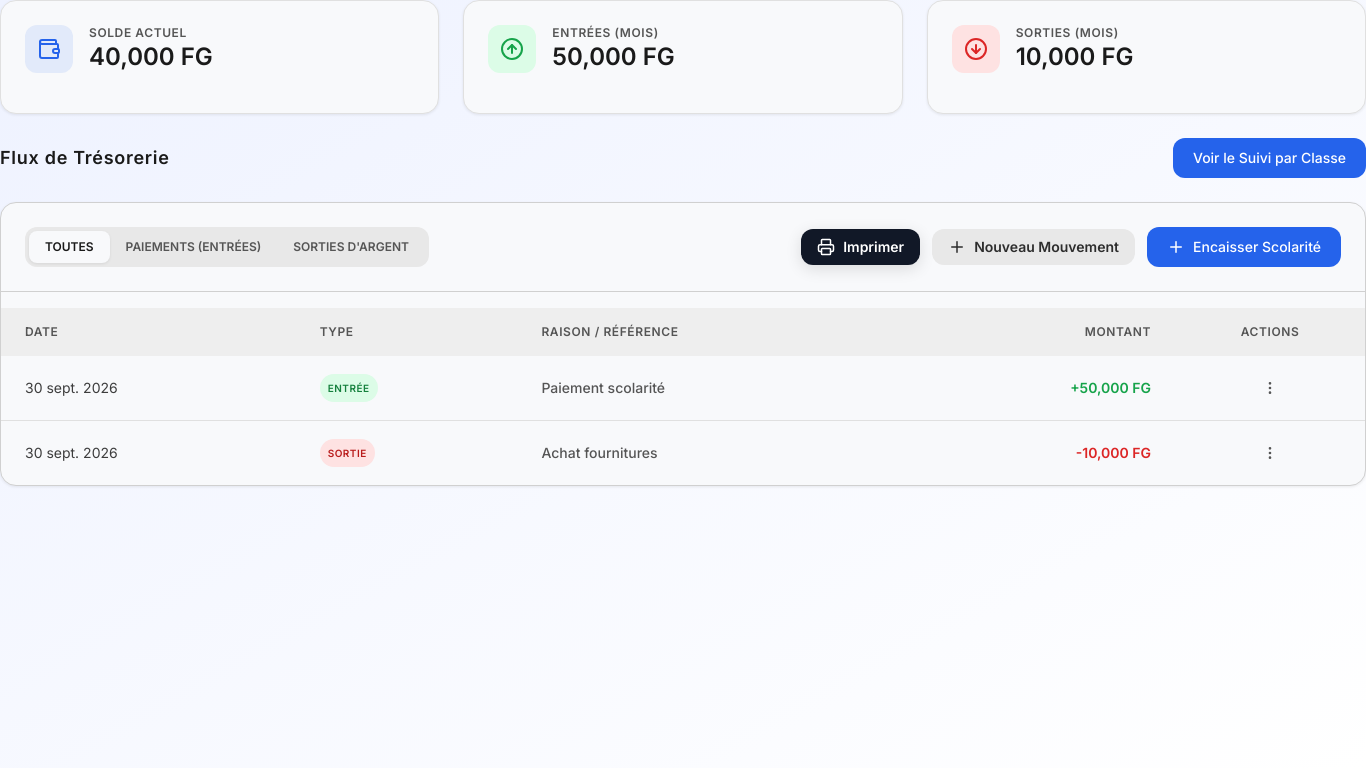
Test: FinanceManagement Component › opens payment modal on button click
The width and height of the screenshot is (1366, 768).
Click the button "Encaisser Scolarité". click: (1244, 247)
box: [1147, 227, 1341, 267]
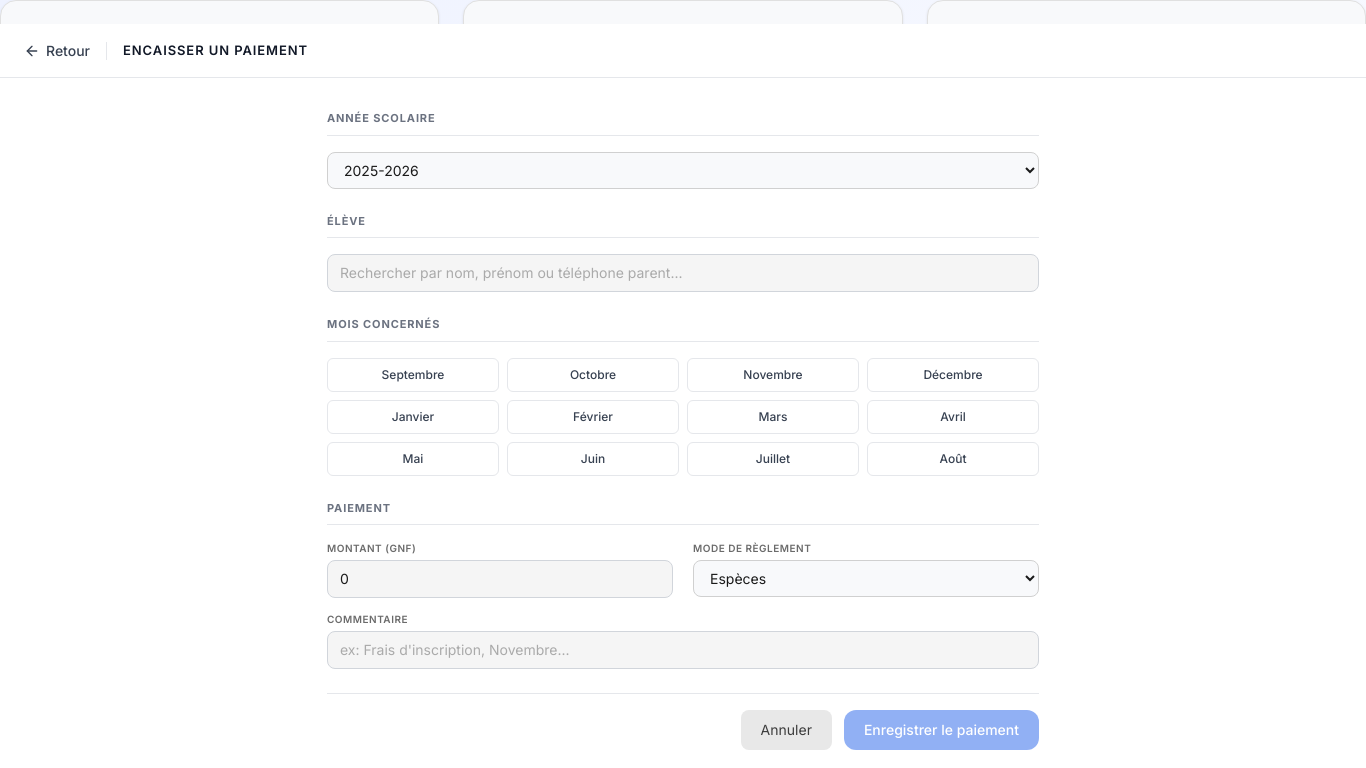
Check: the heading "ENCAISSER UN PAIEMENT" is shown, box [123, 41, 308, 60]
